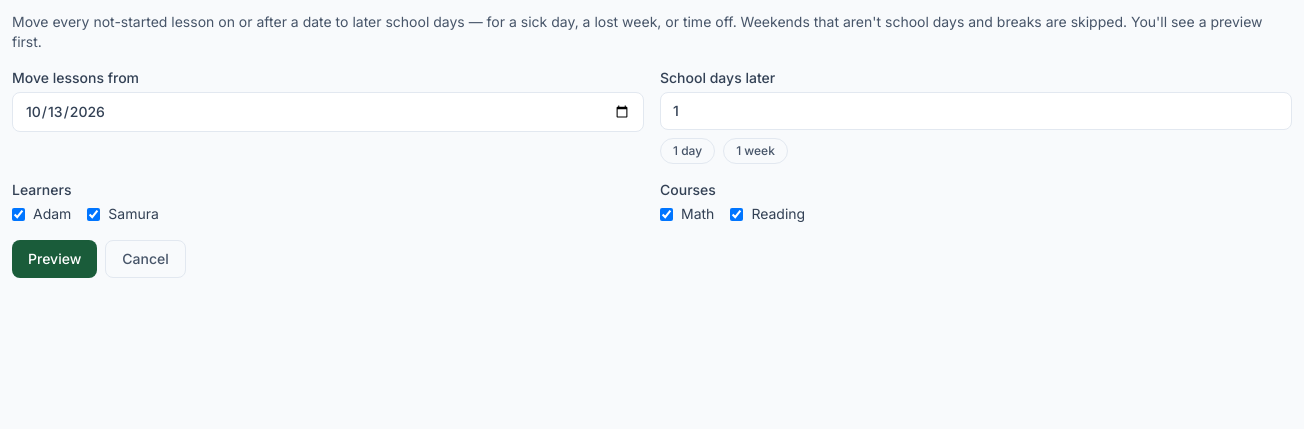
Test: ShiftLessonsPanel — preview › changing the form after a preview clears the stale preview
Click the button "Preview" at (55,259), box left=12, top=240, right=97, bottom=278
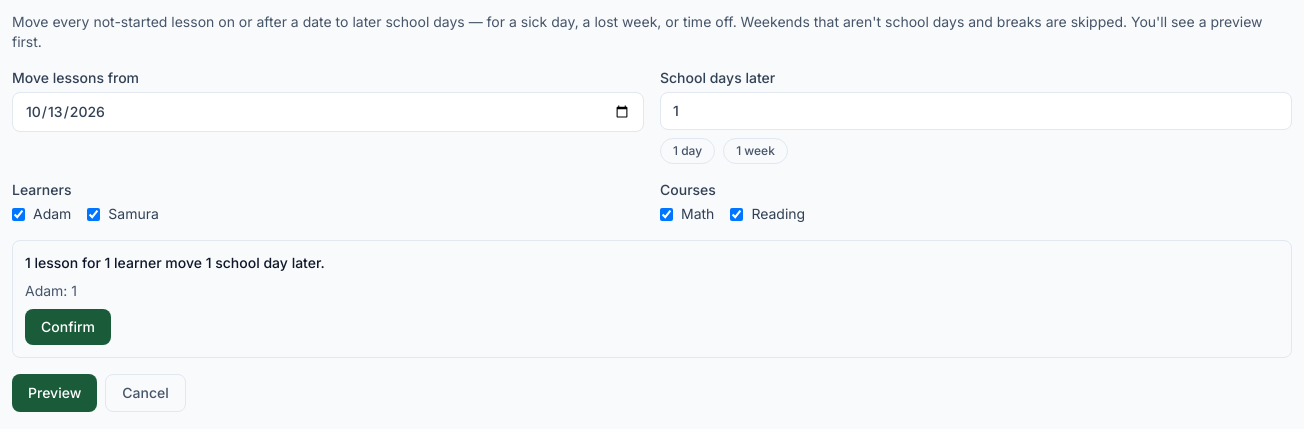
Check: the element with test id "shift-preview" is shown, box left=12, top=240, right=1292, bottom=358
Click the button "1 week" at (756,151), box left=723, top=138, right=788, bottom=164
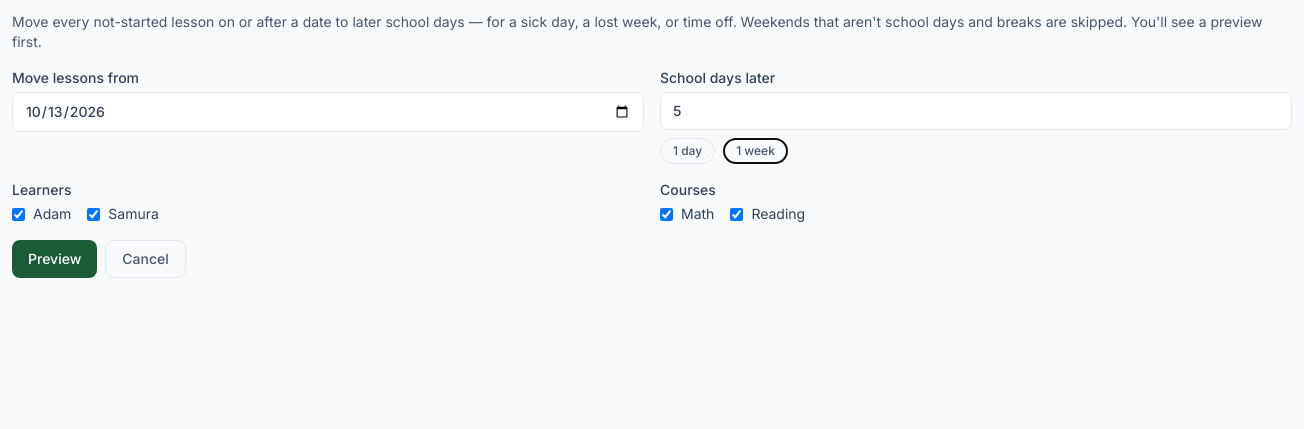
Check: the element with test id "shift-preview" is gone
